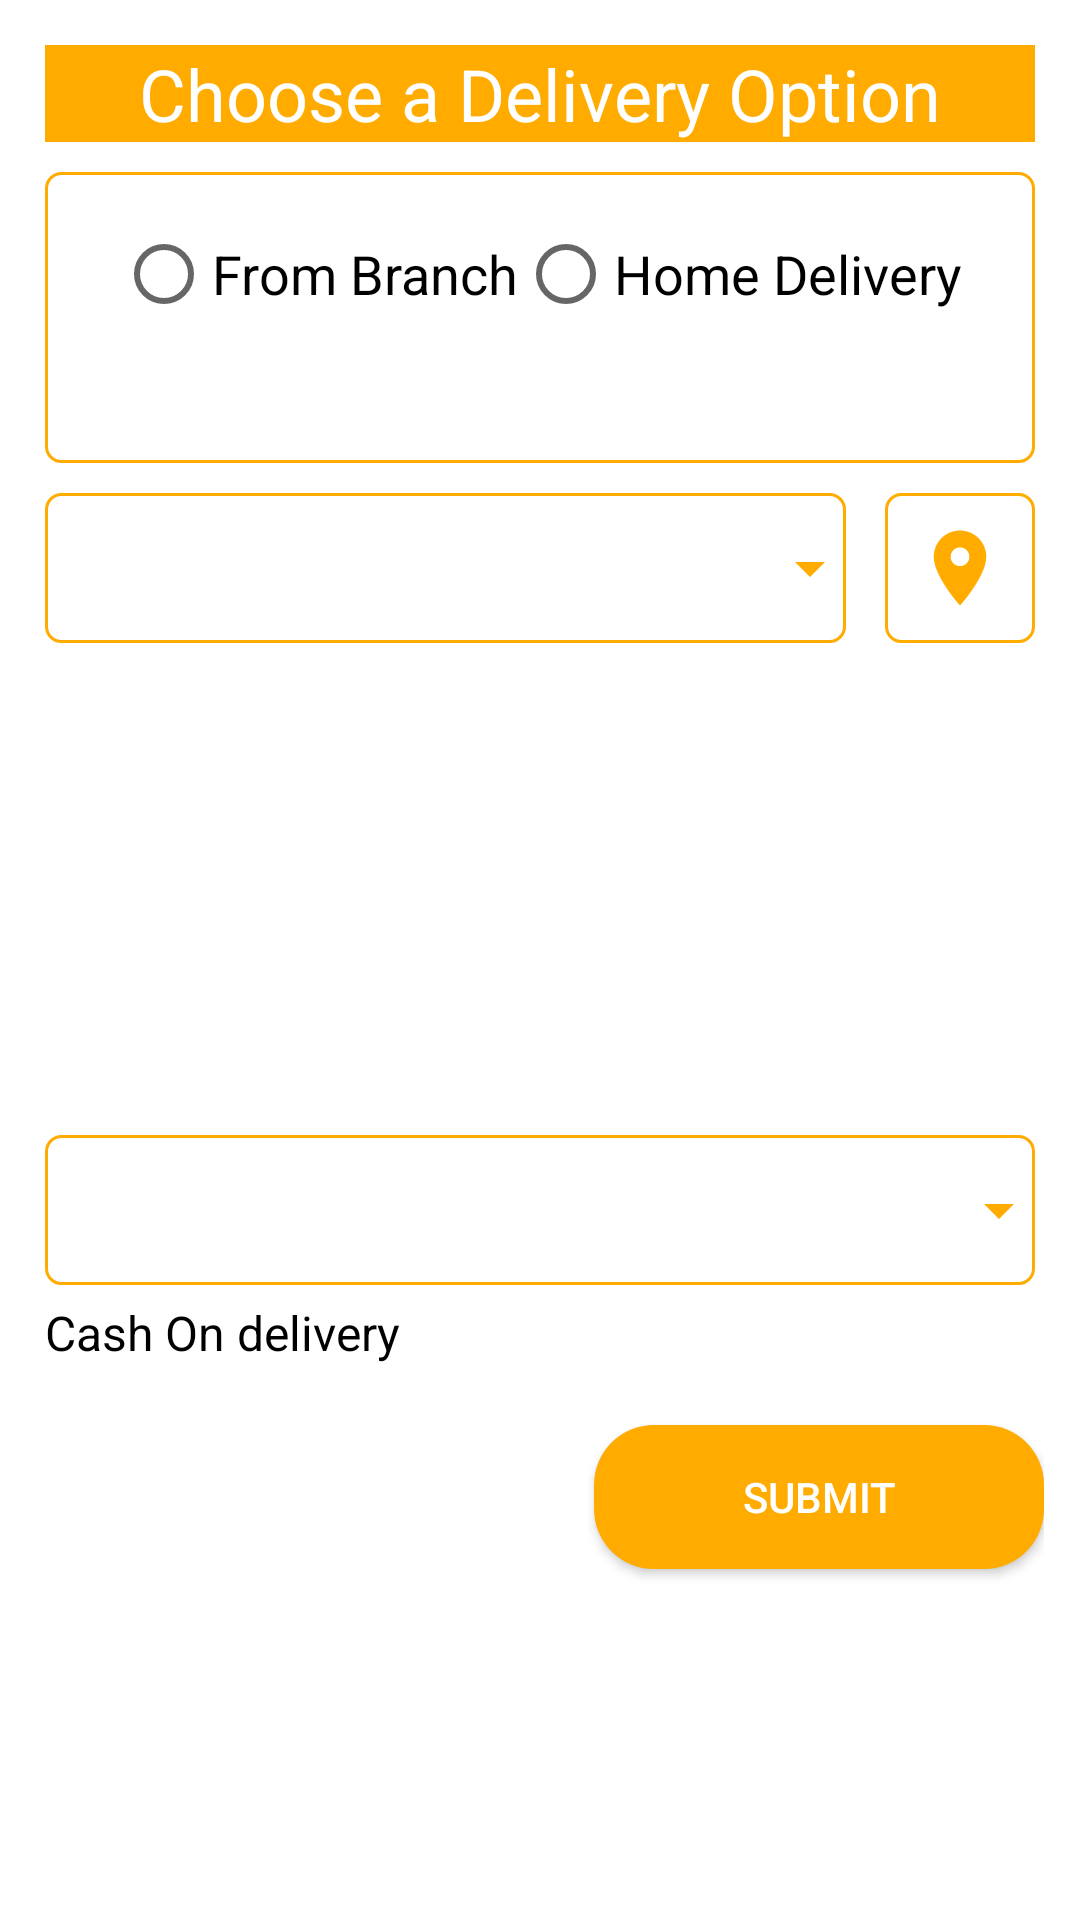

Screen size 1080x1920. Icon name, then its box in pixels as (x1, y1, x2, y2):
arrow drop down: (795, 562, 825, 577), (984, 1204, 1014, 1219)
location on: (885, 493, 1035, 643)
